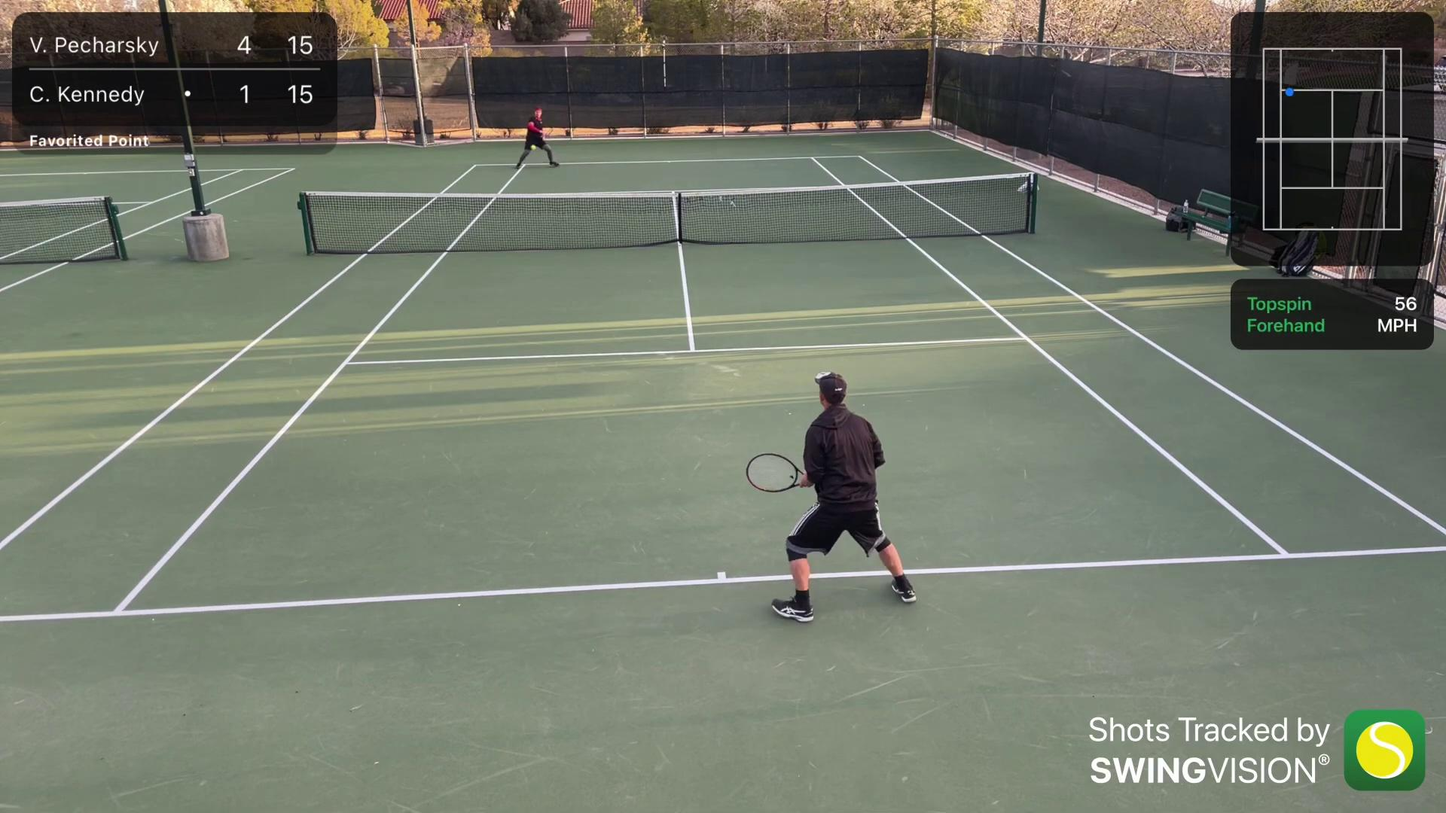ball: (531, 144, 538, 151)
